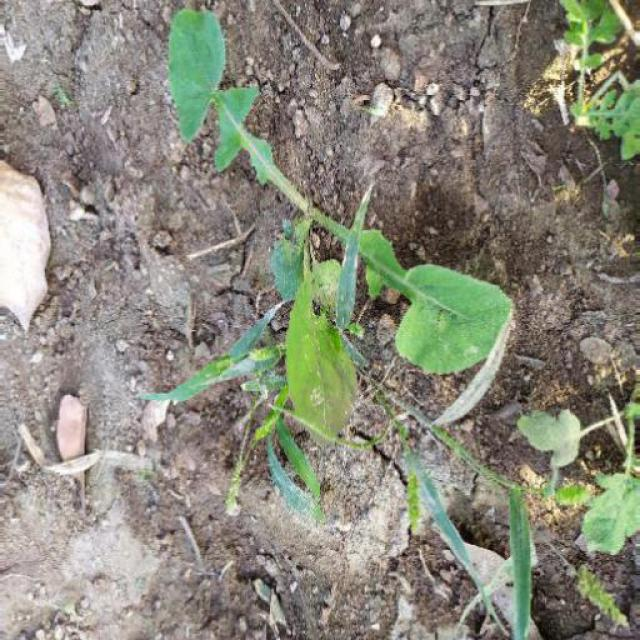weed: (149, 6, 521, 502)
